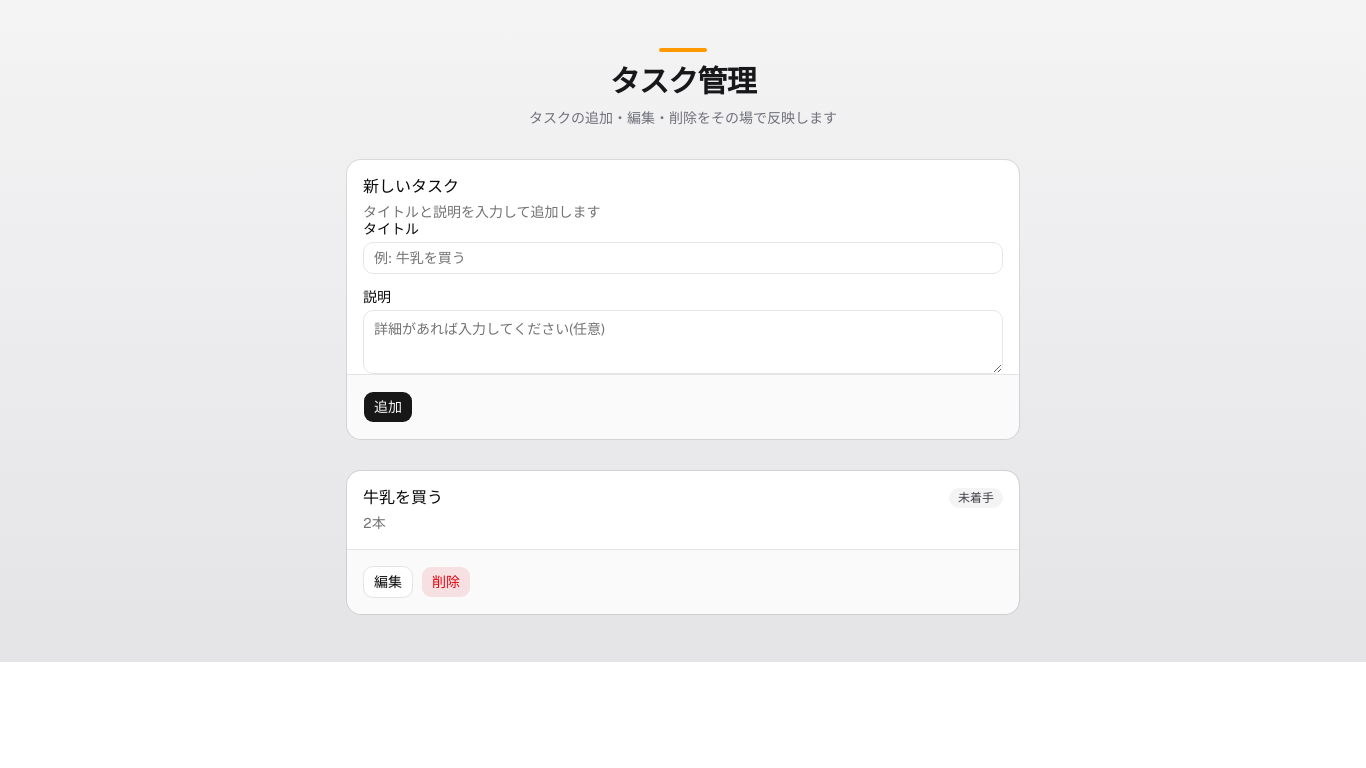
Test case: TaskBoard タスクの削除 › 状態遷移(逆方向): 確認UIでキャンセルすると確認UIが閉じタスクは削除されない
Check: the text "牛乳を買う" is shown, box [363, 487, 443, 508]
Click the button "削除" at (446, 582), box [421, 566, 471, 598]
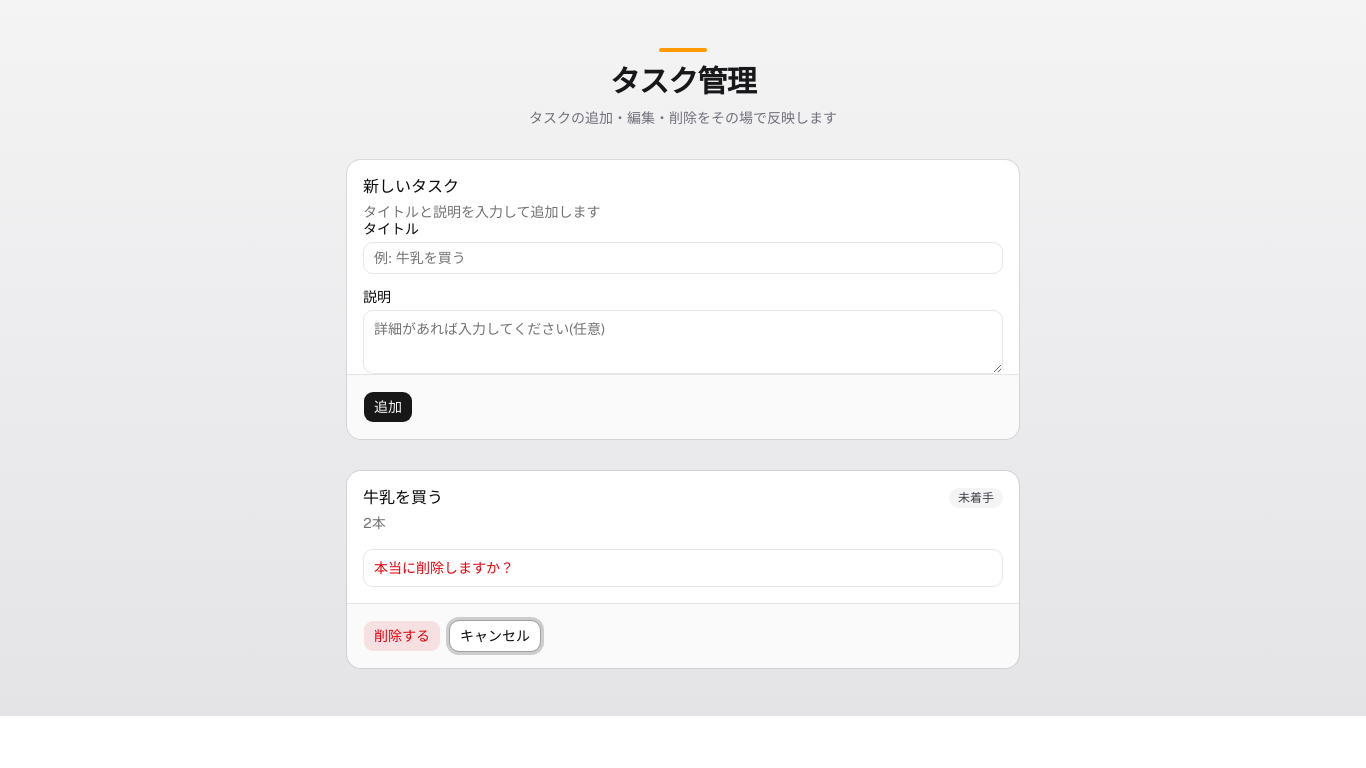
Click the button "キャンセル" at (495, 636), box [449, 620, 541, 652]
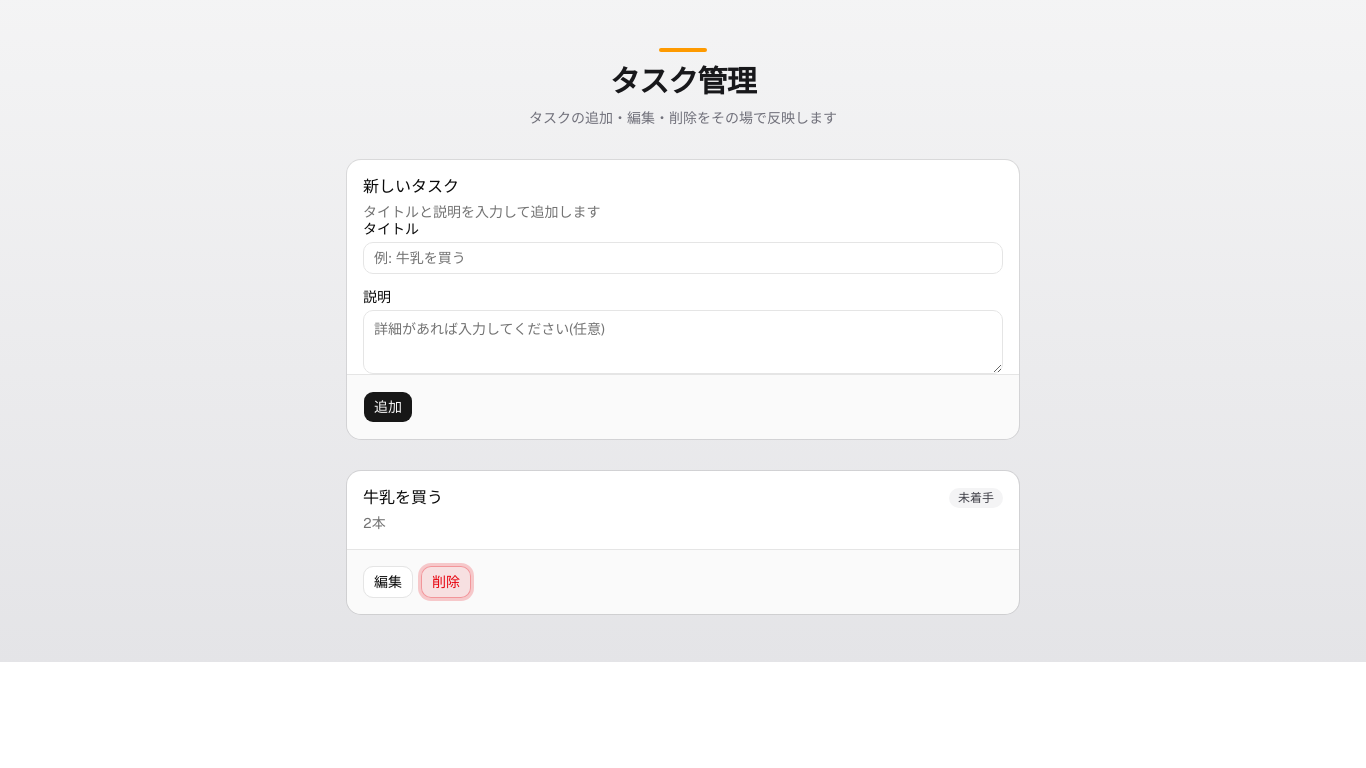
Check: the text "牛乳を買う" is shown, box [363, 487, 443, 508]
Check: the text "本当に削除しますか？" is gone
